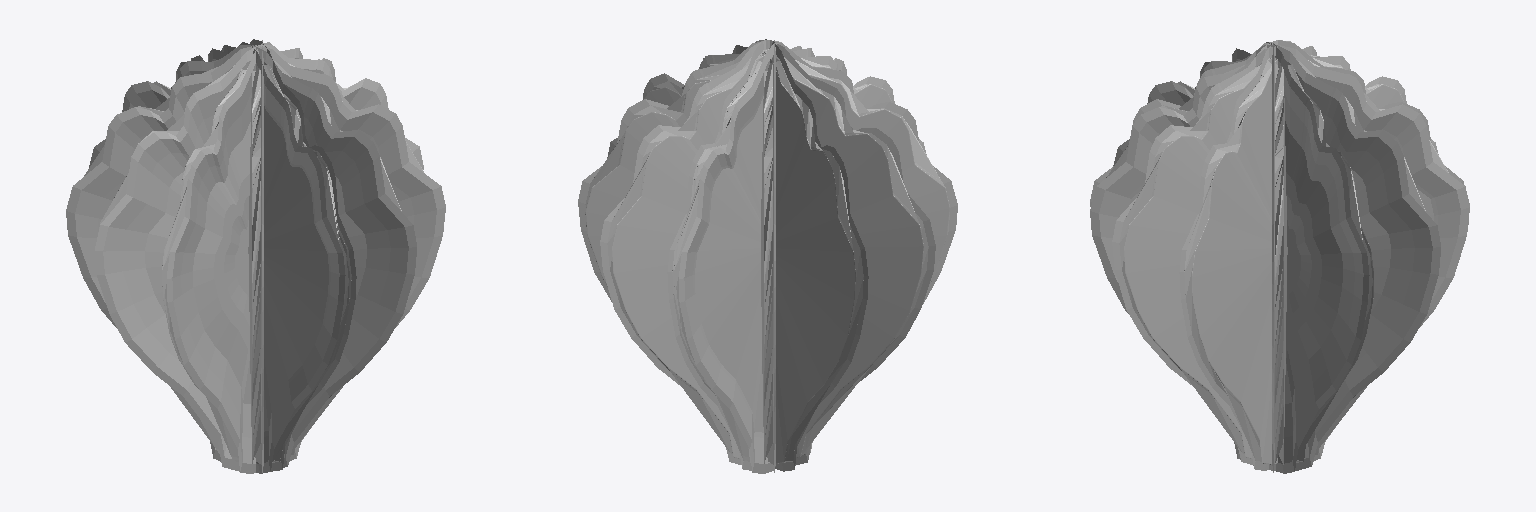
The model's file is Lechuga.obj.
The picture shows the model from 3 angles: view 1: azimuth 30°, elevation 25°; view 2: azimuth 150°, elevation 25°; view 3: azimuth 270°, elevation 25°; orthographic projection.
Parts seen in each view (by area): view 1: Lechuga2 Lechuga4, Lechuga2 Lechuga5, Lechuga2 Lechuga7, Lechuga2 Lechuga6, Lechuga2, Lechuga2 Lechuga8, Lechuga2 Lechuga3; view 2: Lechuga2 Lechuga6, Lechuga2 Lechuga3, Lechuga2 Lechuga5, Lechuga2, Lechuga2 Lechuga4, Lechuga2 Lechuga8, Lechuga2 Lechuga7; view 3: Lechuga2 Lechuga6, Lechuga2 Lechuga4, Lechuga2 Lechuga3, Lechuga2 Lechuga7, Lechuga2, Lechuga2 Lechuga5, Lechuga2 Lechuga8.
Part boxes in pixels (bbox=[...]): Lechuga2 Lechuga4: bbox=[162, 42, 335, 473]; Lechuga2 Lechuga5: bbox=[95, 45, 423, 471]; Lechuga2 Lechuga7: bbox=[89, 45, 416, 470]; Lechuga2 Lechuga6: bbox=[66, 45, 445, 461]; Lechuga2: bbox=[191, 39, 356, 471]; Lechuga2 Lechuga8: bbox=[175, 42, 349, 473]; Lechuga2 Lechuga3: bbox=[248, 40, 263, 472]; Lechuga2 Lechuga6: bbox=[703, 39, 868, 471]; Lechuga2 Lechuga3: bbox=[600, 40, 926, 464]; Lechuga2 Lechuga5: bbox=[607, 40, 935, 465]; Lechuga2: bbox=[667, 41, 801, 470]; Lechuga2 Lechuga4: bbox=[578, 40, 957, 452]; Lechuga2 Lechuga8: bbox=[674, 42, 846, 473]; Lechuga2 Lechuga7: bbox=[761, 40, 775, 472]; Lechuga2 Lechuga6: bbox=[1179, 41, 1350, 470]; Lechuga2 Lechuga4: bbox=[1200, 42, 1373, 473]; Lechuga2 Lechuga3: bbox=[1113, 45, 1440, 471]; Lechuga2 Lechuga7: bbox=[1112, 40, 1438, 464]; Lechuga2: bbox=[1090, 45, 1469, 470]; Lechuga2 Lechuga5: bbox=[1272, 43, 1287, 472]; Lechuga2 Lechuga8: bbox=[1090, 40, 1469, 452].
Bounding box in the file's own units: 51.15 × 63.34 × 51.15.